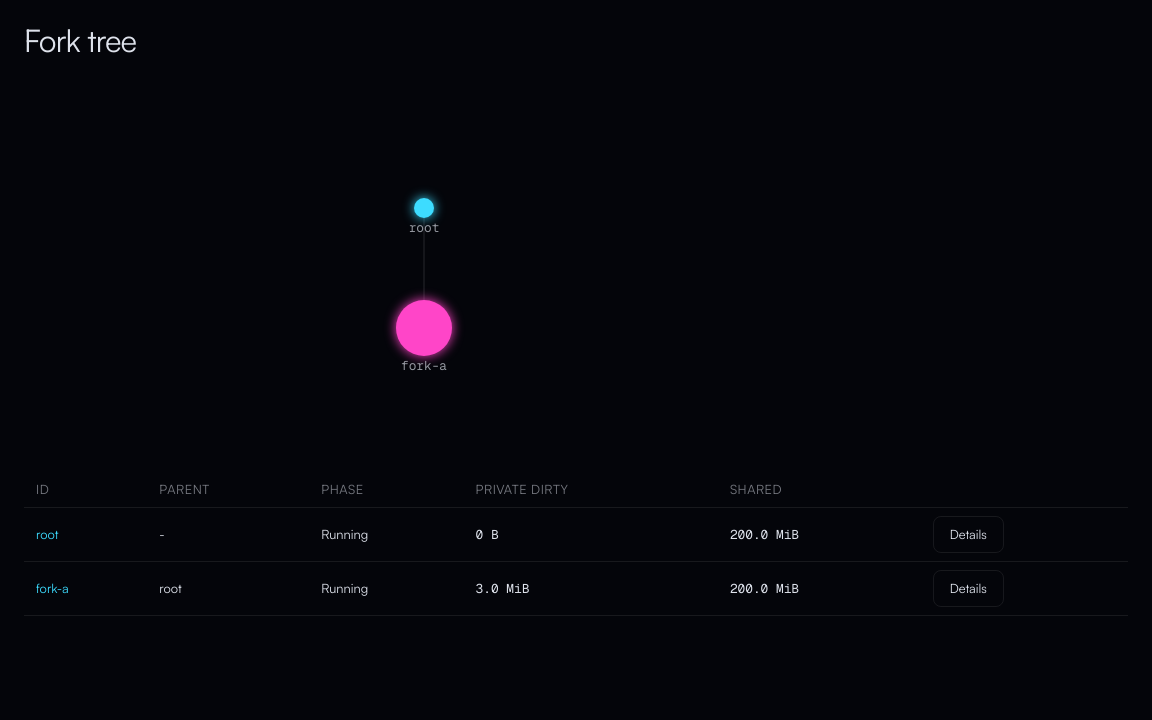
Test case: ForkTree node detail panel › opens a side panel with id, phase, and byte fields when a row Details button is activated (keyboard reachable)
Expected: the table named "fork tree" is shown, [24,472,1128,616]
Step 1. Click the button with aria-label "view details for fork-a" → (968, 589), box [933,570,1004,608]
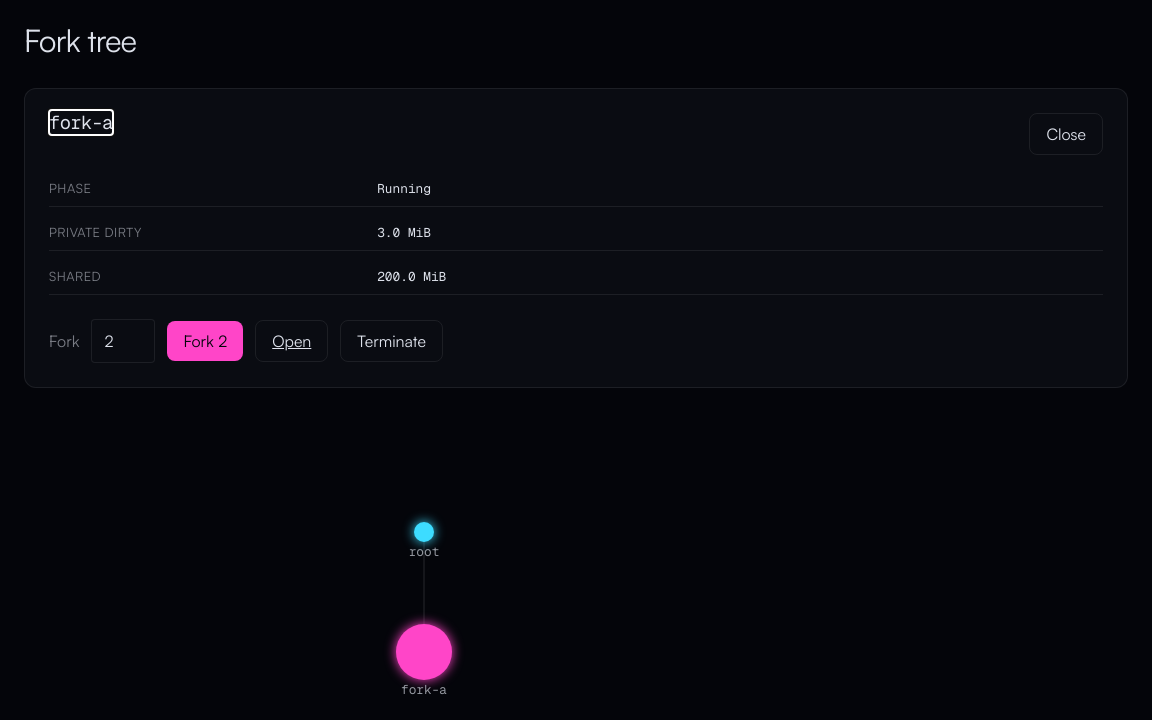
Expected: the element named "details for sandbox fork-a" shows "Running", [377,180,431,197]
Expected: the button "Fork 2" is shown, [167,321,243,361]
Expected: the button "Terminate" is shown, [340,320,443,362]
